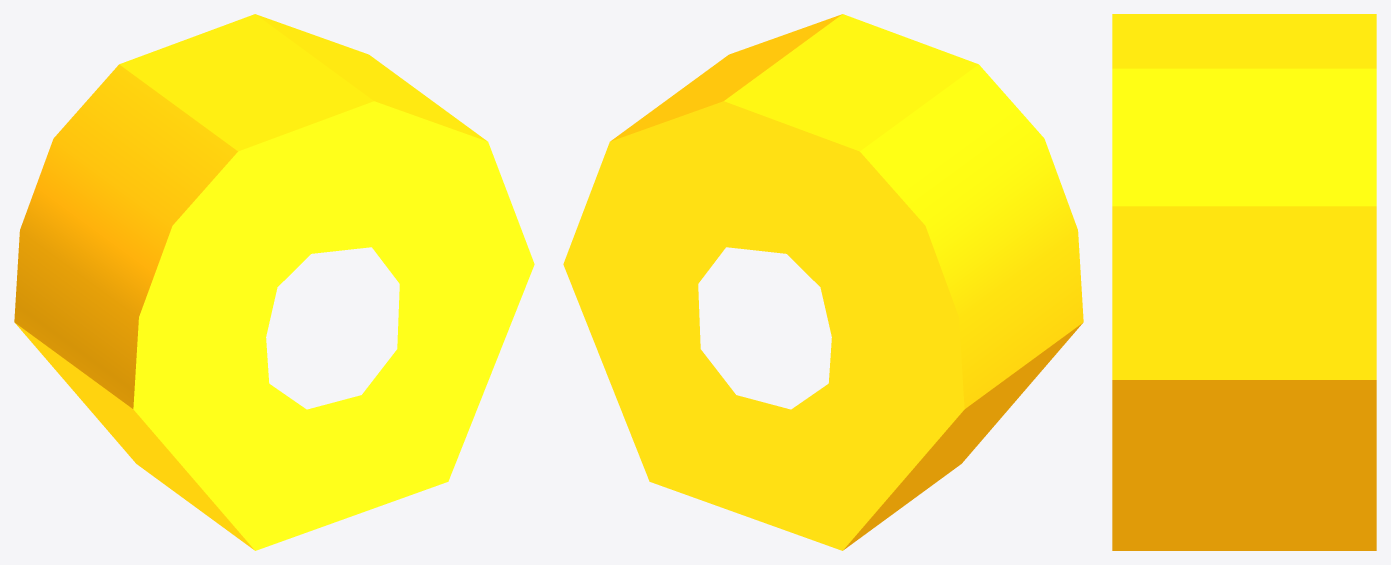
Rendered from O_Zyzol_Yellow.glb.
The picture shows the model from 3 angles, left to right: view 1: azimuth 30°, elevation 25°; view 2: azimuth 150°, elevation 25°; view 3: azimuth 270°, elevation 25°; orthographic projection. The views are drawn at different scales.
Visible parts, largest first — view 1: o_Zyzol_Yellow; view 2: o_Zyzol_Yellow; view 3: o_Zyzol_Yellow.
Part boxes in pixels (bbox=[...]): o_Zyzol_Yellow: bbox=[14, 14, 534, 550]; o_Zyzol_Yellow: bbox=[563, 14, 1083, 550]; o_Zyzol_Yellow: bbox=[1112, 14, 1376, 550].
Size of what is drawn, in the model's own units: 0.0876 by 0.0877 by 0.045.
Materials: 2 (2 with a texture image).
